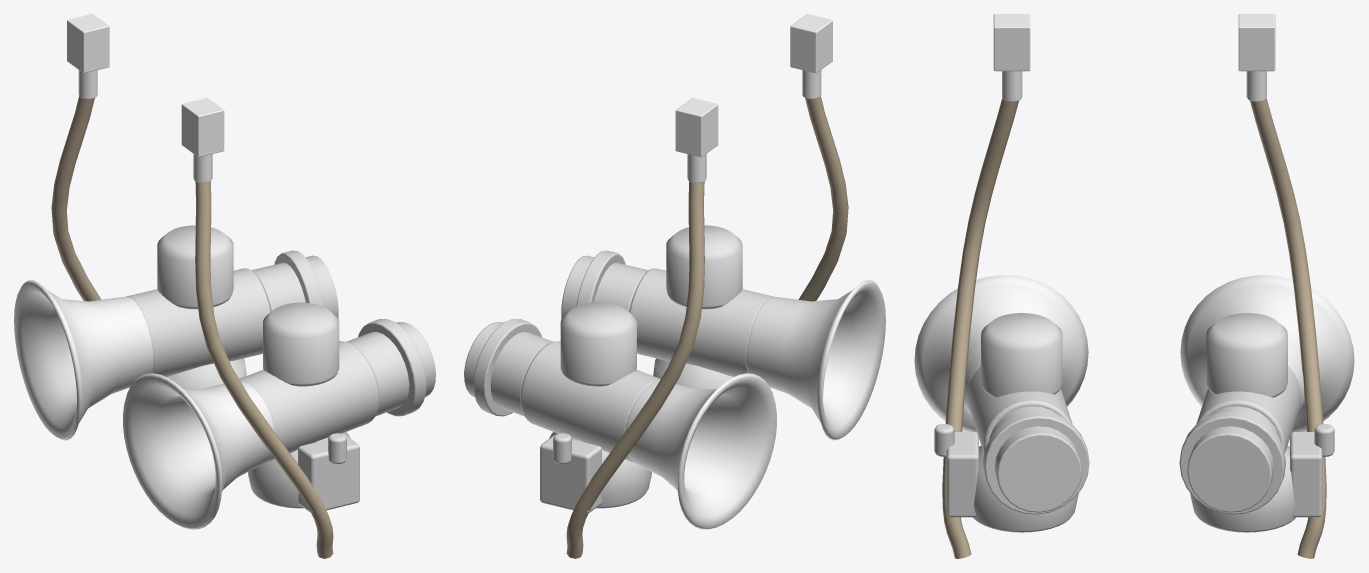
Rendered from bike_cafe_racer__carb.glb.
3 renders of one model, left to right at view 1: azimuth 30°, elevation 25°; view 2: azimuth 150°, elevation 25°; view 3: azimuth 270°, elevation 25°, orthographic. The views are drawn at different scales.
Visible parts, largest first — view 1: powertrain__intake__carburettors, powertrain__intake__bellmouths, powertrain__fuel_system__lines, powertrain__intake__manifolds, powertrain__fuel_system__taps; view 2: powertrain__intake__carburettors, powertrain__intake__bellmouths, powertrain__fuel_system__lines, powertrain__intake__manifolds, powertrain__fuel_system__taps; view 3: powertrain__intake__carburettors, powertrain__intake__bellmouths, powertrain__intake__manifolds, powertrain__fuel_system__lines, powertrain__fuel_system__taps.
Boxes of the visible parts, left/top/right/bottom form: powertrain__intake__carburettors: left=126, top=225, right=379, bottom=513; powertrain__intake__bellmouths: left=14, top=280, right=275, bottom=529; powertrain__fuel_system__lines: left=51, top=96, right=333, bottom=558; powertrain__intake__manifolds: left=252, top=250, right=435, bottom=416; powertrain__fuel_system__taps: left=67, top=14, right=224, bottom=183; powertrain__intake__carburettors: left=520, top=225, right=773, bottom=513; powertrain__intake__bellmouths: left=624, top=280, right=885, bottom=529; powertrain__fuel_system__lines: left=566, top=96, right=848, bottom=558; powertrain__intake__manifolds: left=464, top=250, right=647, bottom=416; powertrain__fuel_system__taps: left=675, top=14, right=832, bottom=183; powertrain__intake__carburettors: left=934, top=313, right=1334, bottom=532; powertrain__intake__bellmouths: left=914, top=275, right=1354, bottom=432; powertrain__intake__manifolds: left=983, top=406, right=1285, bottom=514; powertrain__fuel_system__lines: left=942, top=98, right=1326, bottom=558; powertrain__fuel_system__taps: left=993, top=14, right=1275, bottom=101.
Size of the model in its own units: 16.53 by 26.33 by 21.58.
